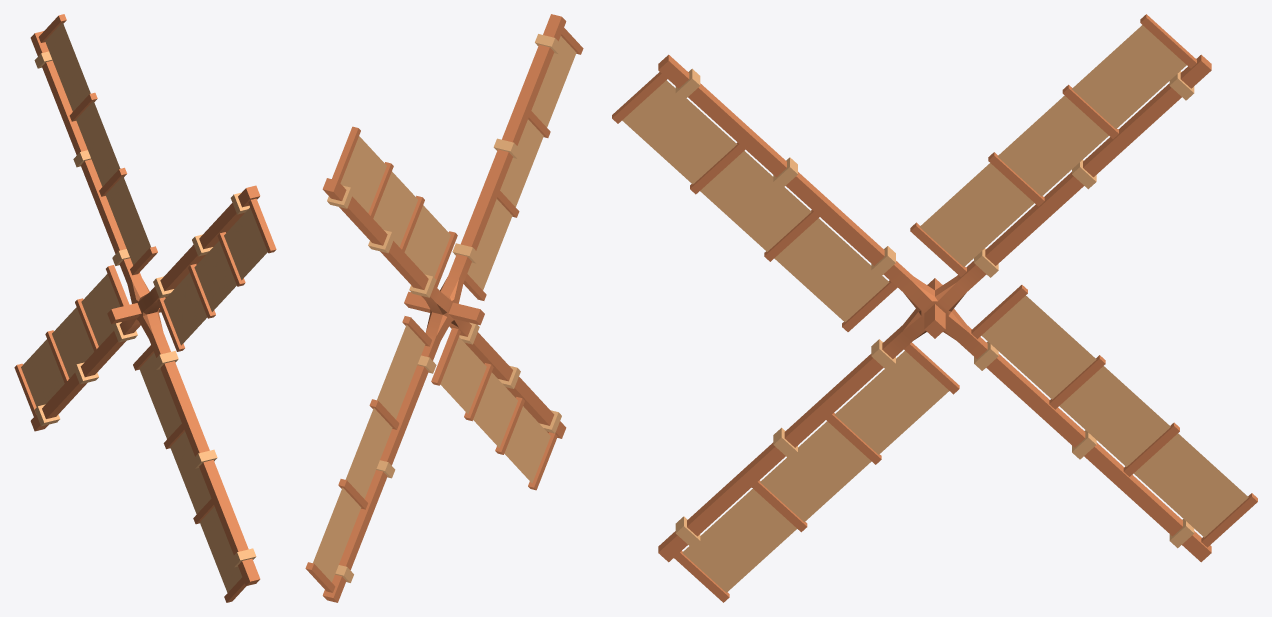
The model's file is windmill.fbx.
3 views of the same model, side by side, from view 1: azimuth 30°, elevation 25°; view 2: azimuth 150°, elevation 25°; view 3: azimuth 270°, elevation 25° (orthographic). The views are drawn at different scales.
Visible parts, largest first — view 1: windmill; view 2: windmill; view 3: windmill.
Boxes of the visible parts, box(x1,y1,x2,y2) form: windmill: box(14, 14, 276, 602); windmill: box(305, 14, 583, 602); windmill: box(612, 14, 1257, 602).
Bounding box in the file's own units: 4.71 × 30.71 × 30.71.
